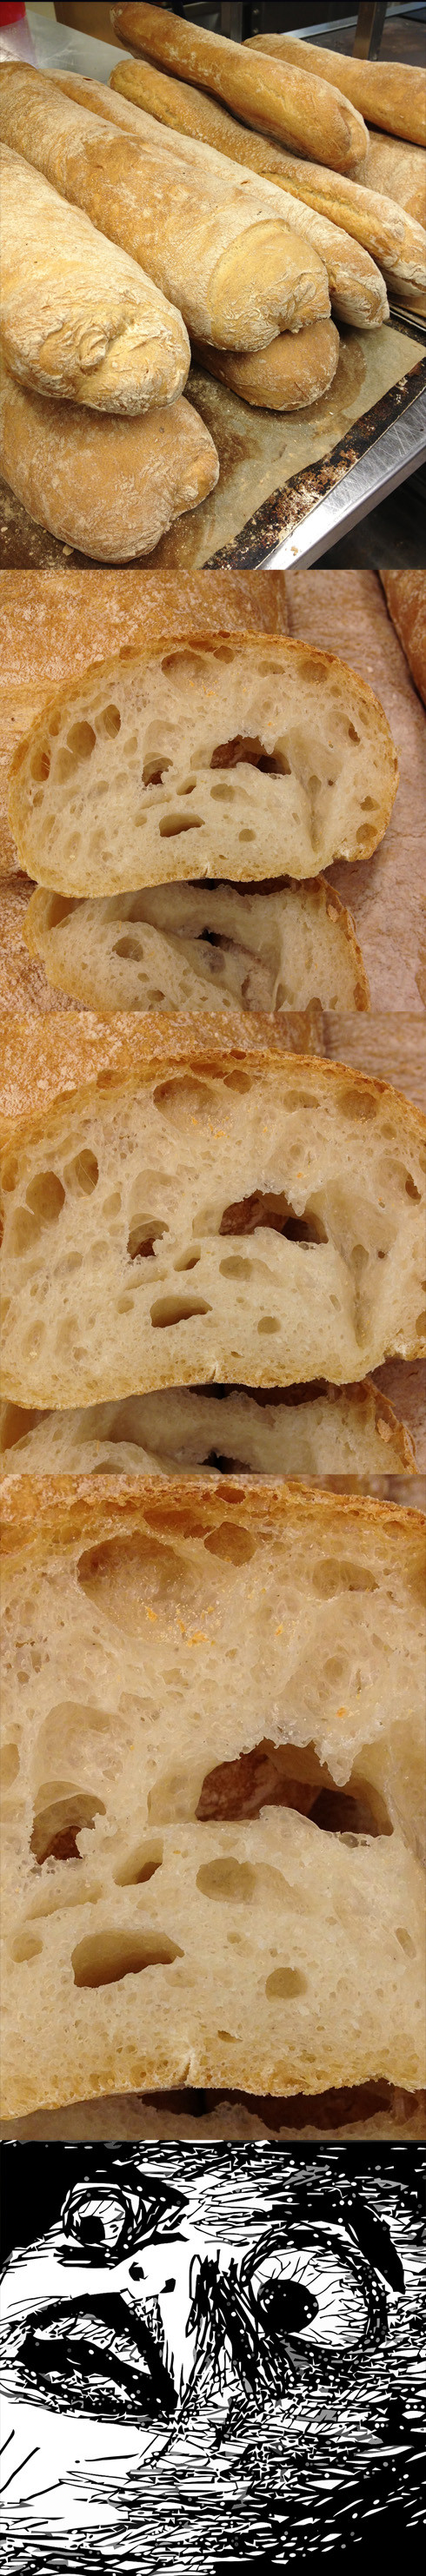slice of bread: (100, 680, 398, 2049)
